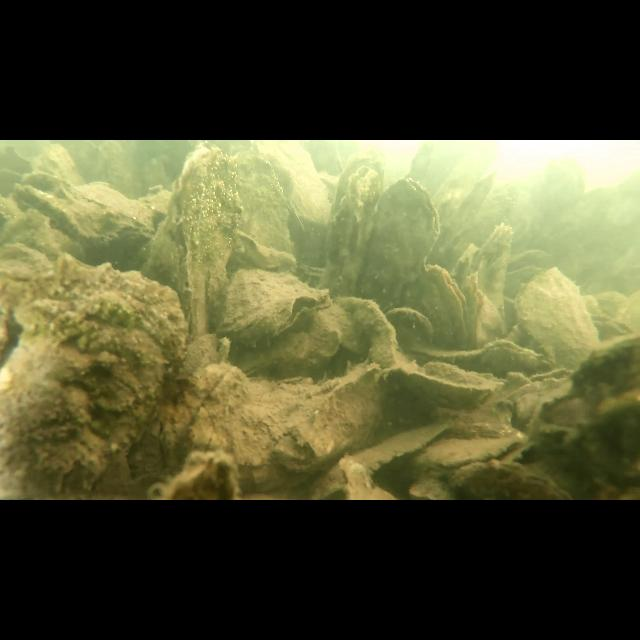Oyster-Closed: (0, 258, 184, 500), (526, 334, 640, 500), (240, 364, 384, 466), (304, 418, 452, 500), (163, 362, 253, 488), (514, 265, 602, 367), (230, 148, 294, 268), (64, 181, 156, 247), (404, 339, 550, 378), (448, 458, 570, 500), (477, 224, 511, 322), (389, 308, 435, 348)
Oyster-Open: (160, 144, 242, 342), (367, 178, 441, 312), (218, 268, 330, 348), (325, 158, 383, 294), (413, 265, 472, 347), (418, 438, 528, 478), (513, 366, 575, 400)
